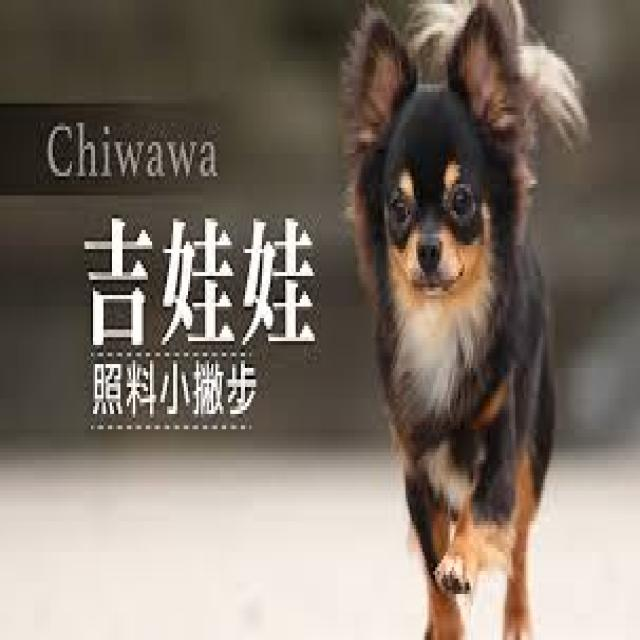Chihuahua: (340, 1, 589, 640)
